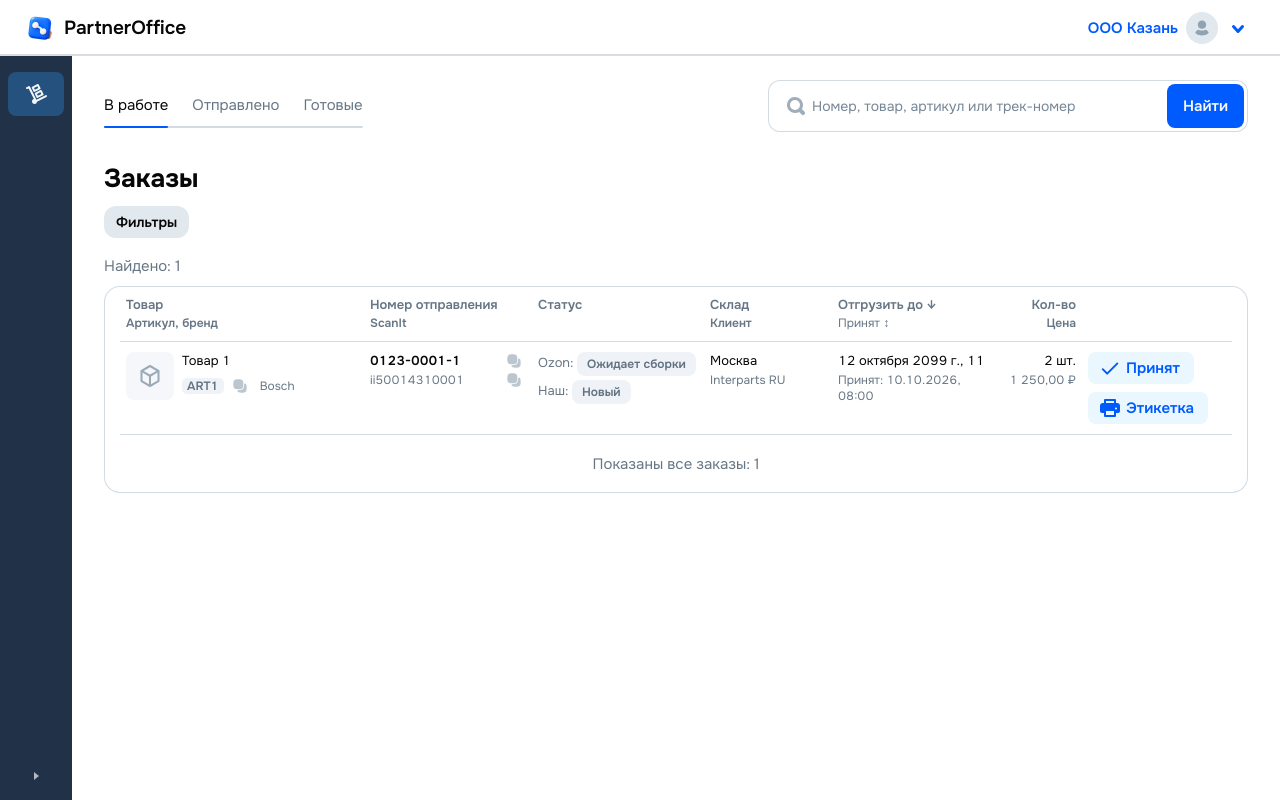
Test: Статус Studio2: «Принят» → «Отгрузить» › 409: статус уже сменили в Studio2 — предупреждение и строка перечитывается
What coordinates should you click on to do the following:
click the button "Принят"
I would click on:
 (1141, 368)
Its box is left=1088, top=352, right=1194, bottom=384.
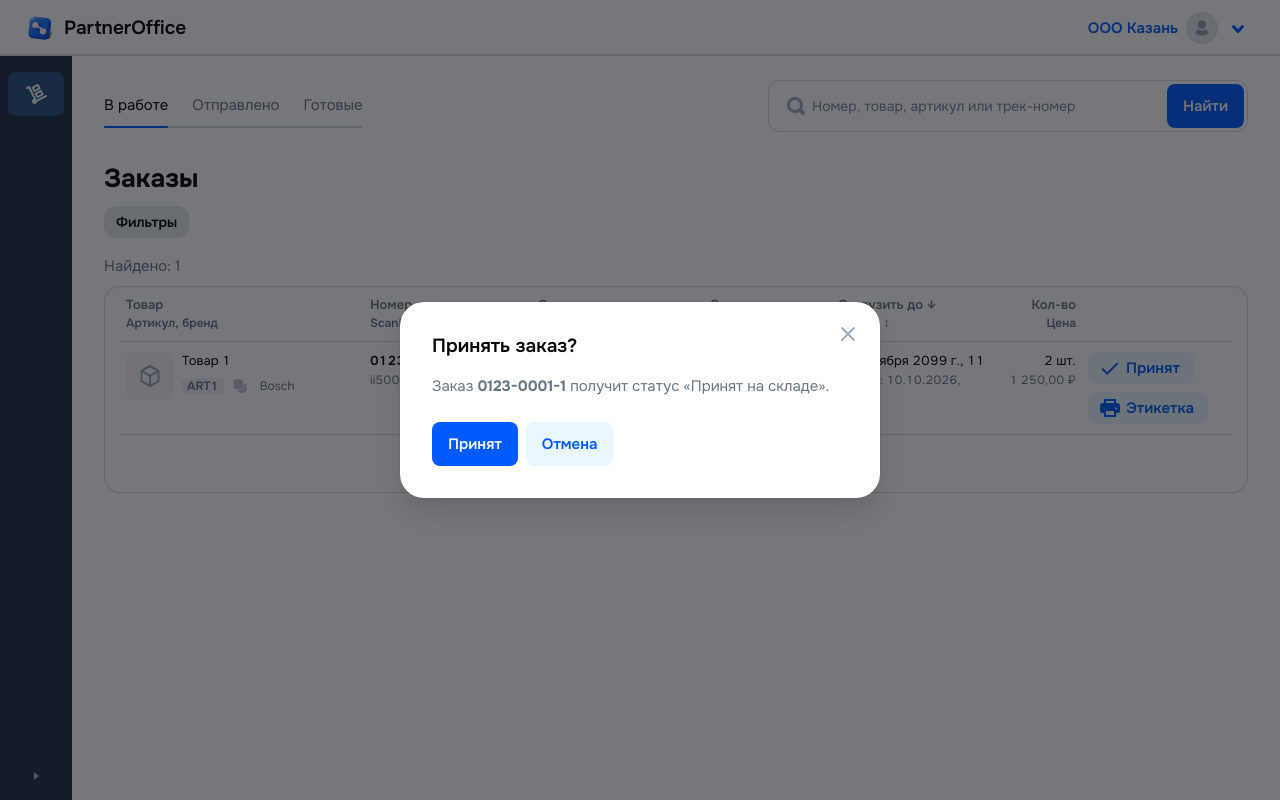
What coordinates should you click on to do the following:
click the button "Принят"
I would click on:
 (475, 444)
Its box is left=432, top=422, right=518, bottom=466.
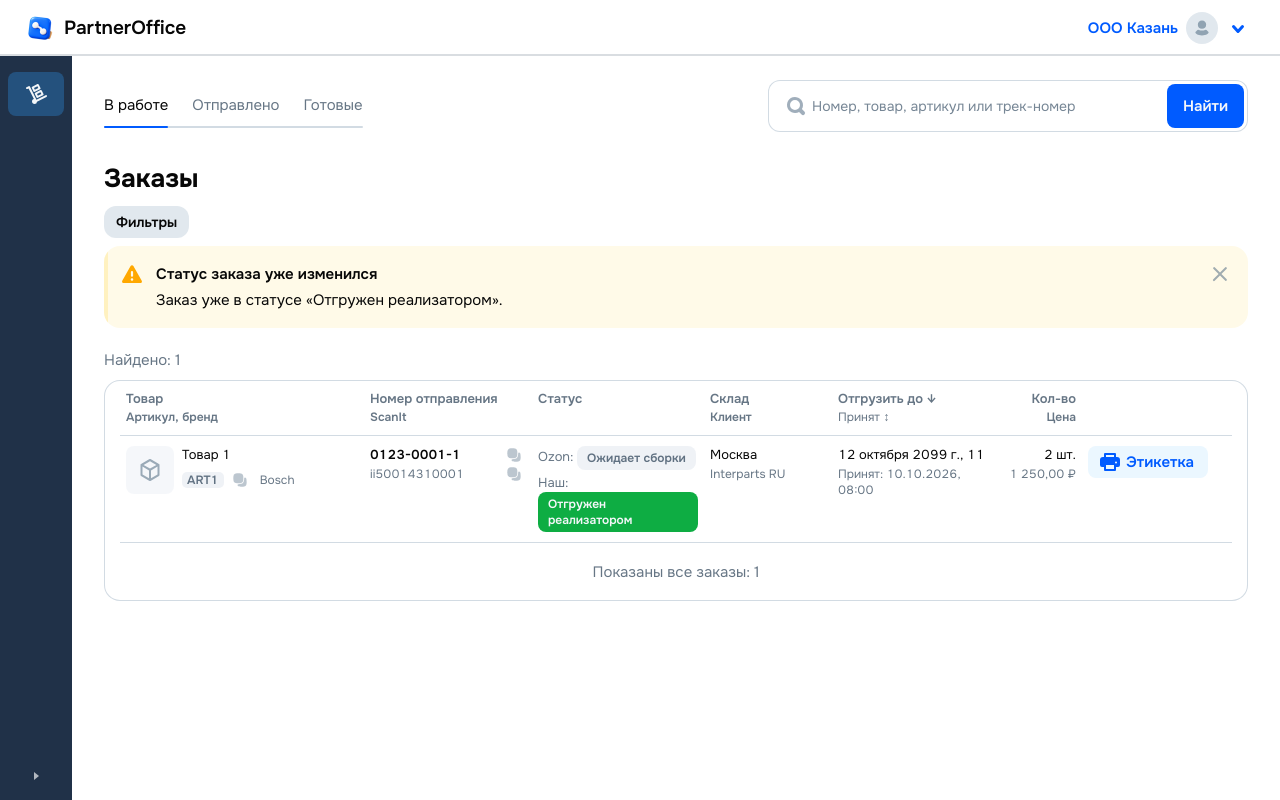
Result: the text "Статус заказа уже изменился" is shown at left=156, top=264, right=377, bottom=284
Result: the text "Заказ уже в статусе «Отгружен реализатором»." is shown at left=156, top=288, right=503, bottom=312
Result: the text "Отгружен реализатором" is shown at left=548, top=496, right=632, bottom=528
